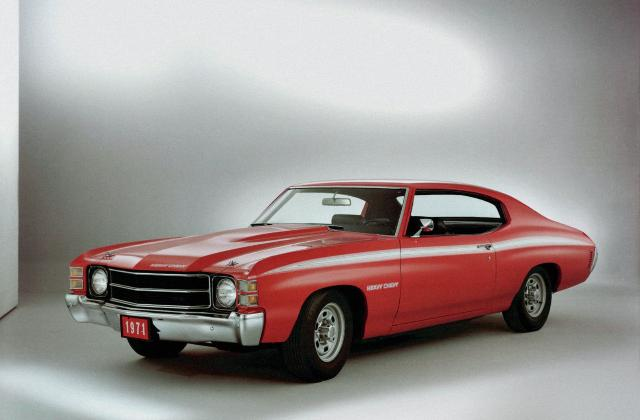chevelle-1972: (66, 180, 597, 382)
